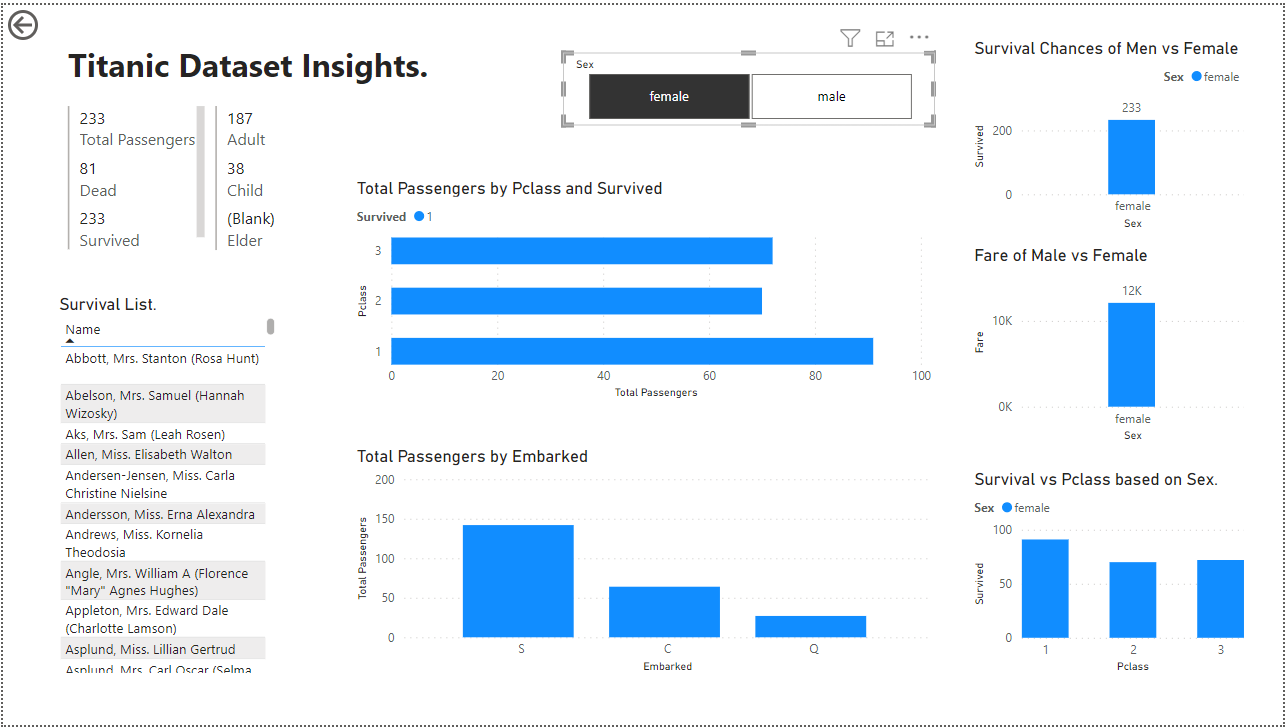

Layout of this report page (visuals, bound fields, positions):
{"tool":"powerbi","page":{"name":"Page 1","canvas":[1280,720],"ordinal":0},"visuals":[{"type":"textbox","box":[59.9,33,432.7,52.6],"z":0},{"type":"slicer","fields":{"Values":["Final_titanic_dataset_powerbi.Sex"]},"box":[559.9,47.7,372.8,73.3],"z":1000},{"type":"barChart","fields":{"Y":["Table.Total Passengers"],"Category":["Final_titanic_dataset_powerbi.Pclass"],"Series":["Final_titanic_dataset_powerbi.Survived"]},"box":[348.4,172.4,584.3,226.1],"z":2000},{"type":"multiRowCard","fields":{"Values":["Table.Adult","Table.Child","Table.Elder"]},"box":[207.4,96.5,70.6,172.8],"z":3000},{"type":"multiRowCard","fields":{"Values":["Table.Total Passengers","Table.Dead","Table.Survived"]},"box":[60.5,96.5,146.9,152.6],"z":4000},{"type":"columnChart","title":"Survival Chances of Men  vs Female","fields":{"Y":["Table.Survived"],"Category":["Final_titanic_dataset_powerbi.Sex"],"Series":["Final_titanic_dataset_powerbi.Sex"]},"box":[965.7,33,279.9,196.8],"z":5000},{"type":"columnChart","title":"Fare of Male vs Female","fields":{"Y":["Final_titanic_dataset_powerbi.Fare"],"Category":["Final_titanic_dataset_powerbi.Sex"]},"box":[965.7,239.6,279.9,201.7],"z":6000},{"type":"columnChart","fields":{"Category":["Final_titanic_dataset_powerbi.Embarked"],"Y":["Table.Total Passengers"]},"box":[348.4,441.3,584.3,231],"z":8000},{"type":"columnChart","title":"Survival vs Pclass based on Sex.","fields":{"Y":["Final_titanic_dataset_powerbi.Survived"],"Series":["Final_titanic_dataset_powerbi.Sex"],"Category":["Final_titanic_dataset_powerbi.Pclass"]},"box":[965.7,463.3,279.9,209],"z":9000},{"type":"actionButton","box":[0,0,100,40],"z":10000},{"type":"tableEx","title":"Survival List.","fields":{"Values":["Final_titanic_dataset_powerbi.Name"]},"box":[51.4,288.6,225.7,384.3],"z":11000}]}

Visuals, with their boxes on the page's 1280x720 design canvas (x1, y1, x2, y2). These are canvas units, not pixel positions in the 1286x728 screenshot, which may show the page scaled, cropped or inside an application window:
textbox: 60,33,493,86
slicer - Final_titanic_dataset_powerbi.Sex: 560,48,933,121
barChart - Table.Total Passengers x Final_titanic_dataset_powerbi.Pclass: 348,172,933,398
multiRowCard - Table.Adult x Table.Child: 207,96,278,269
multiRowCard - Table.Total Passengers x Table.Dead: 60,96,207,249
"Survival Chances of Men  vs Female" columnChart: 966,33,1246,230
"Fare of Male vs Female" columnChart: 966,240,1246,441
columnChart - Final_titanic_dataset_powerbi.Embarked x Table.Total Passengers: 348,441,933,672
"Survival vs Pclass based on Sex." columnChart: 966,463,1246,672
actionButton: 0,0,100,40
"Survival List." tableEx: 51,289,277,673
